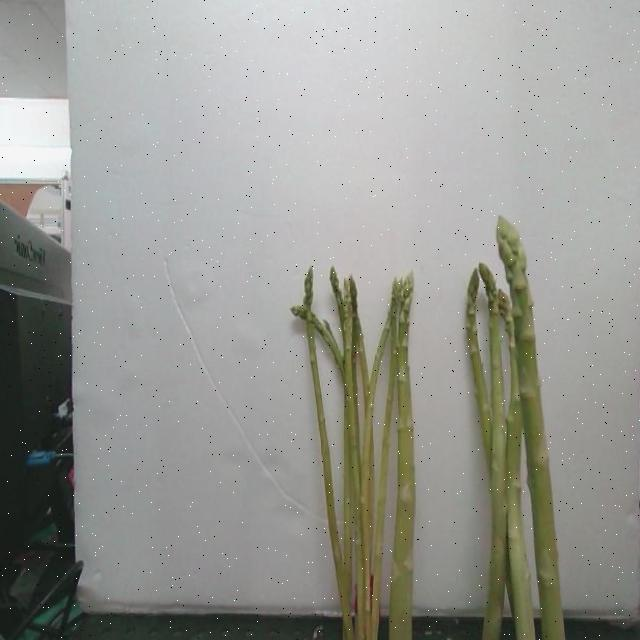aspargus: (494, 217, 564, 640)
